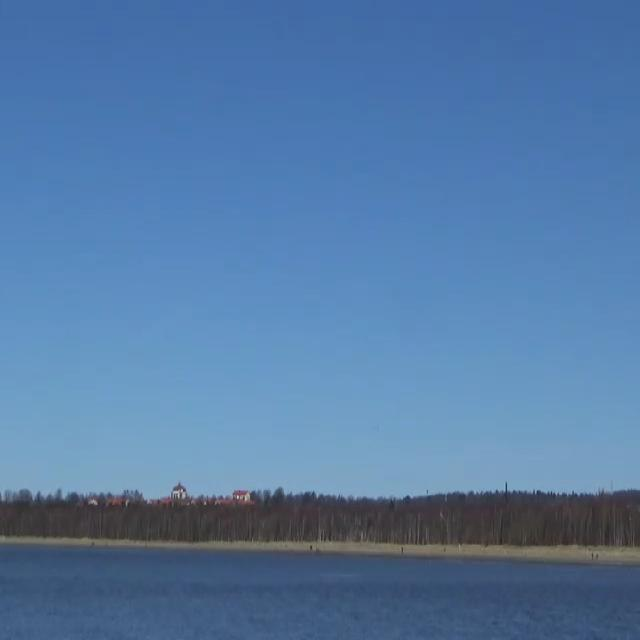Helicopter: (362, 411, 393, 445)
